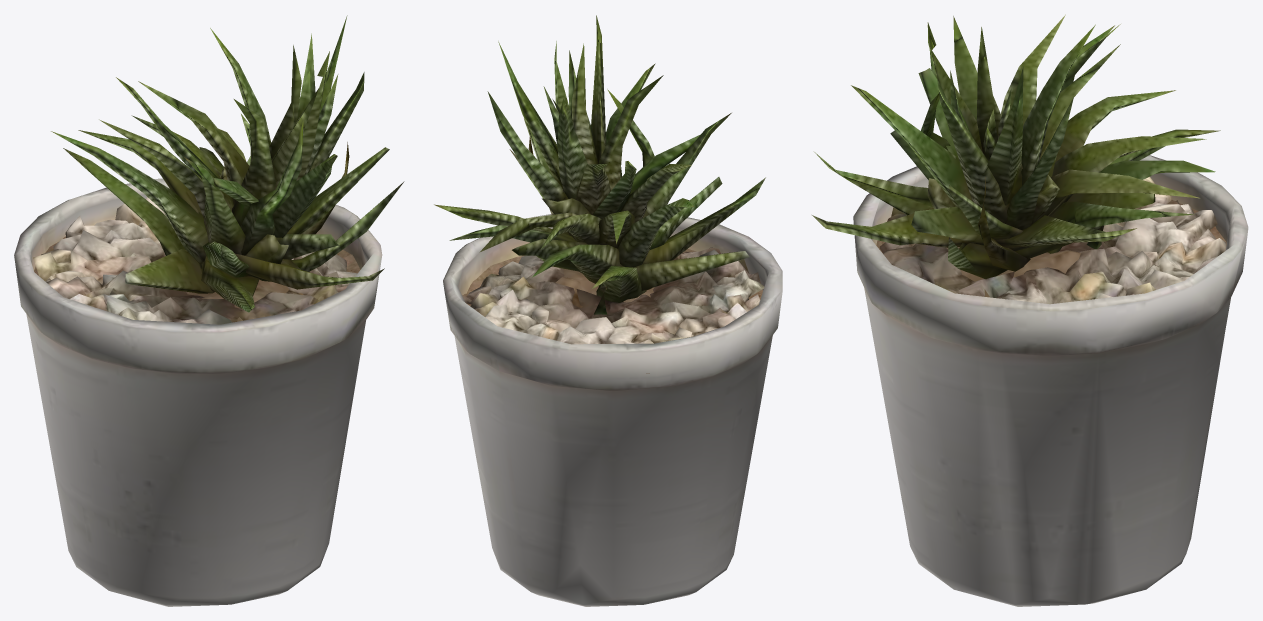
File: maceta.glb
The picture shows the model from 3 angles, left to right: view 1: azimuth 30°, elevation 25°; view 2: azimuth 150°, elevation 25°; view 3: azimuth 270°, elevation 25°; orthographic projection. The views are drawn at different scales.
Parts seen in each view (by area): view 1: potted_plant_04_dirt; view 2: potted_plant_04_dirt; view 3: potted_plant_04_dirt.
Boxes of the visible parts, x1=… form: potted_plant_04_dirt: x1=14, y1=15, x2=404, y2=606; potted_plant_04_dirt: x1=434, y1=15, x2=782, y2=606; potted_plant_04_dirt: x1=812, y1=14, x2=1248, y2=606.
Size of the model in its own units: 0.1672 by 0.2672 by 0.1838.
1 material, 1 textured.
